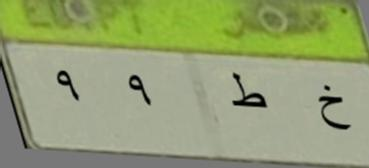9: (125, 68, 158, 114), (52, 65, 83, 109)
Taa: (225, 67, 271, 117)
khaa: (308, 82, 364, 138)
